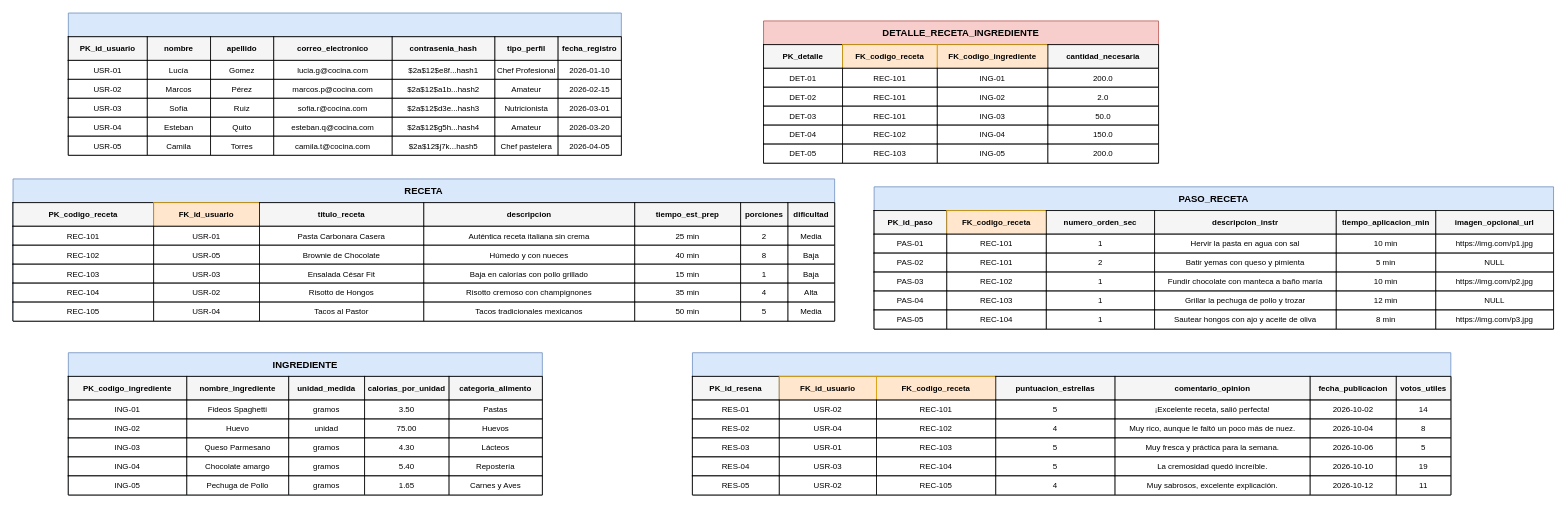
This 1567x508 diagram has some shape labels left out. The box of each missing label's shape, as (x1, y1, x2, y2) in pixels:
MIEMBRO: (68, 12, 621, 155)
RESEÑA: (692, 352, 1451, 495)
